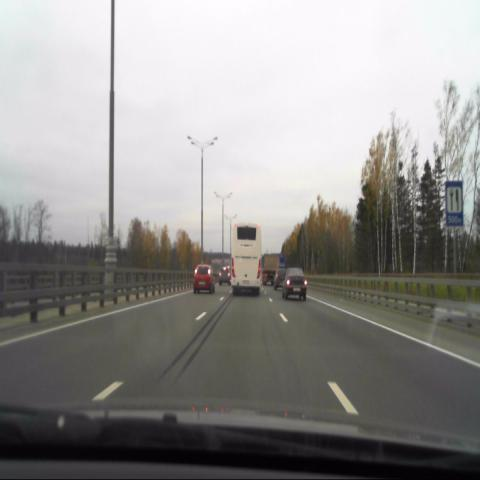7_7: (445, 179, 464, 225)
